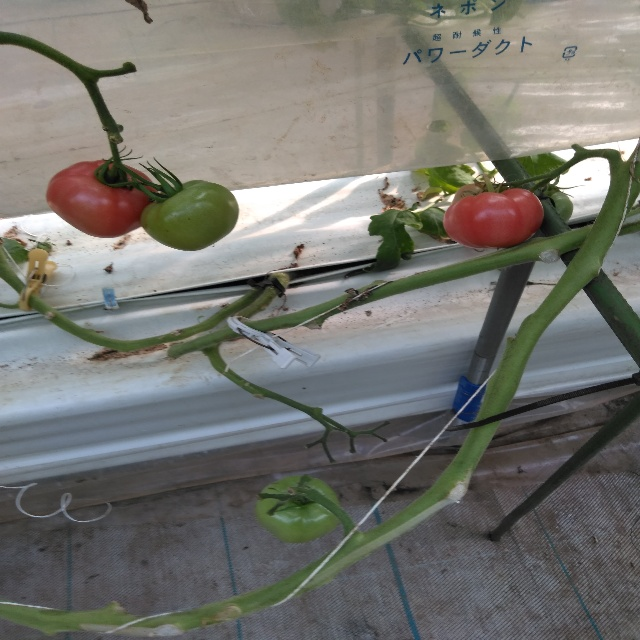b_fully_ripened: (44, 159, 160, 239), (442, 188, 545, 249)
b_green: (139, 179, 239, 251), (256, 476, 341, 545)
